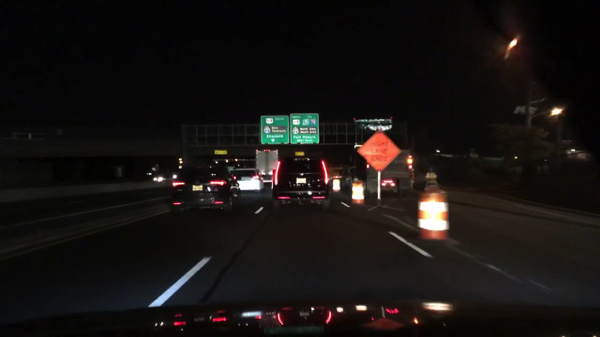car: (167, 162, 243, 219), (268, 154, 331, 215), (228, 167, 267, 196), (351, 114, 395, 134), (321, 163, 347, 191), (336, 162, 357, 193), (3, 131, 46, 141), (223, 166, 236, 176), (151, 174, 165, 183), (170, 172, 179, 179), (145, 172, 154, 177)
traffic sign: (354, 126, 403, 175), (288, 113, 319, 146), (259, 115, 290, 145), (213, 149, 229, 157), (294, 150, 305, 157)
truck: (351, 143, 416, 201), (253, 149, 280, 185)
